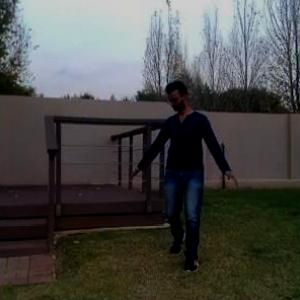land: (133, 73, 231, 278)
